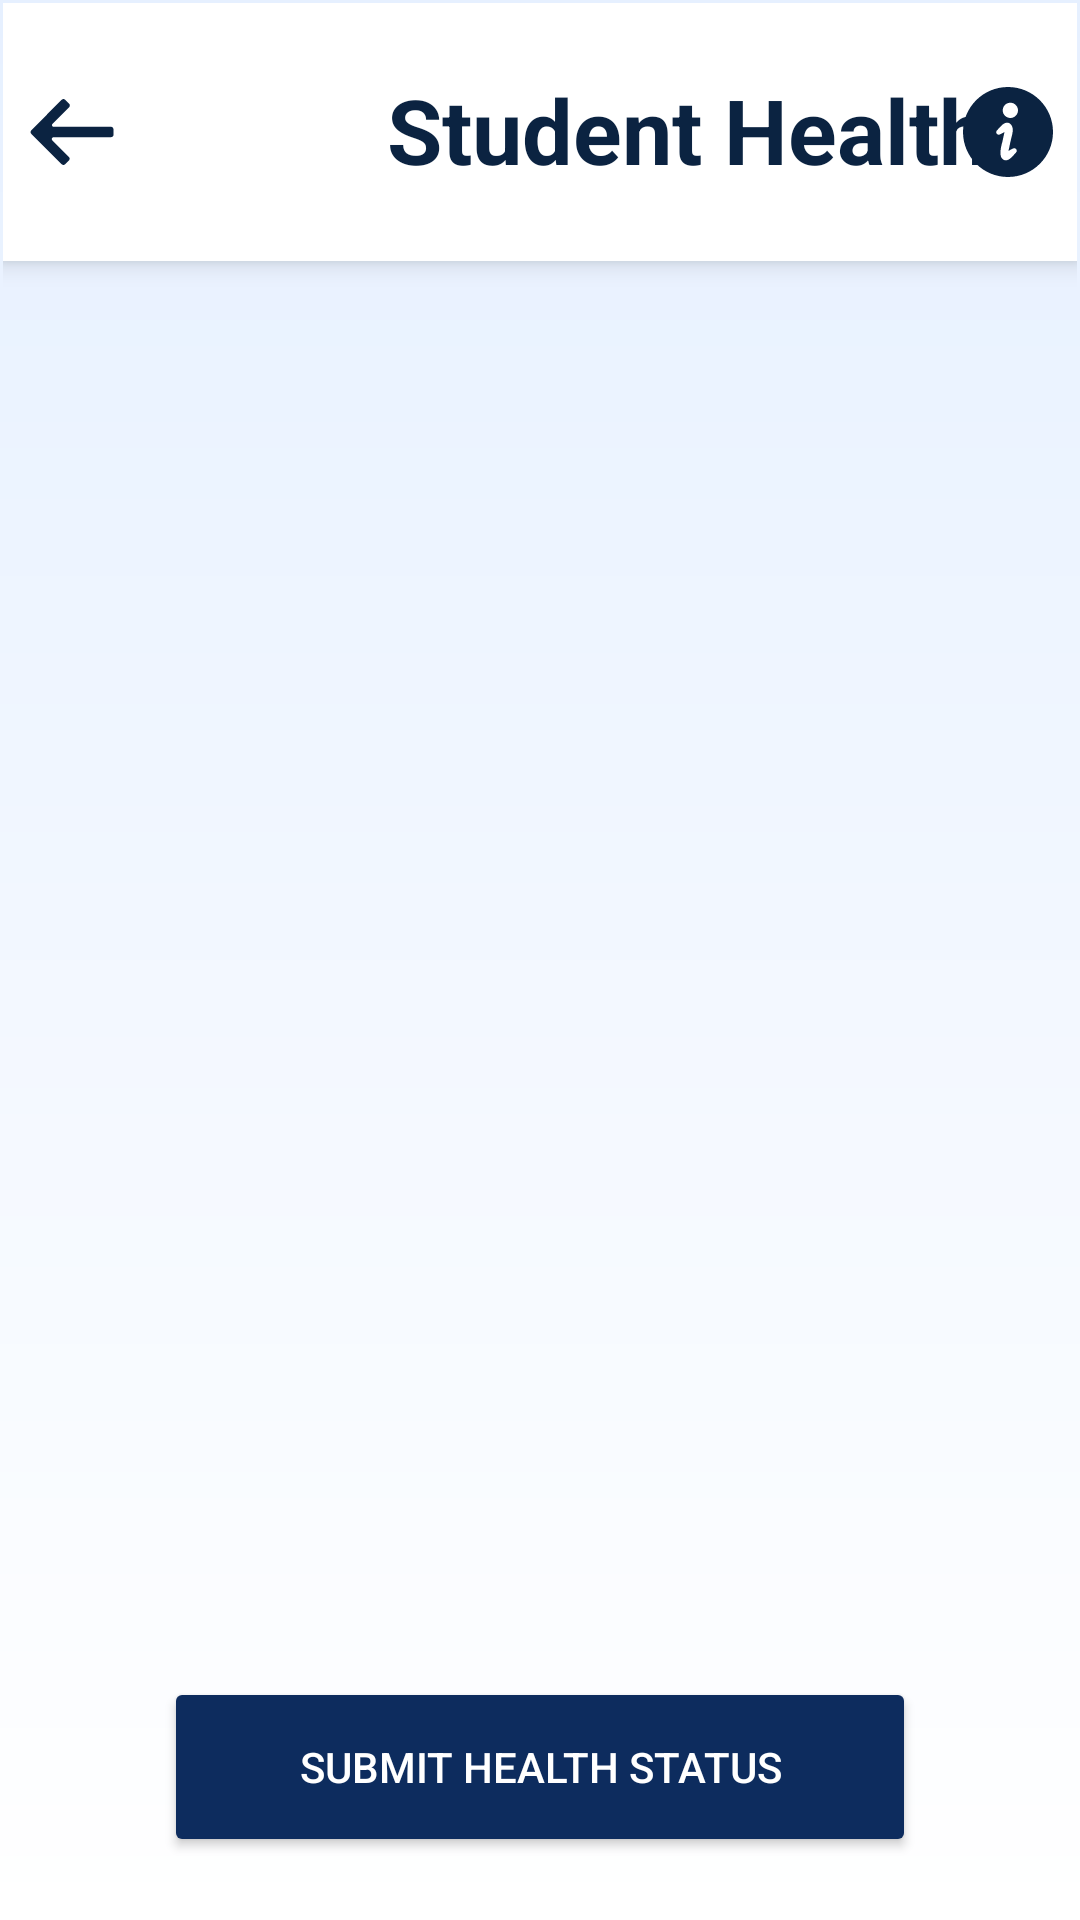

Icons on this 1080*1920 Android screen, each with the point to tap as (x=x, y=y):
back: (x=72, y=132)
Information: (x=1008, y=132)
